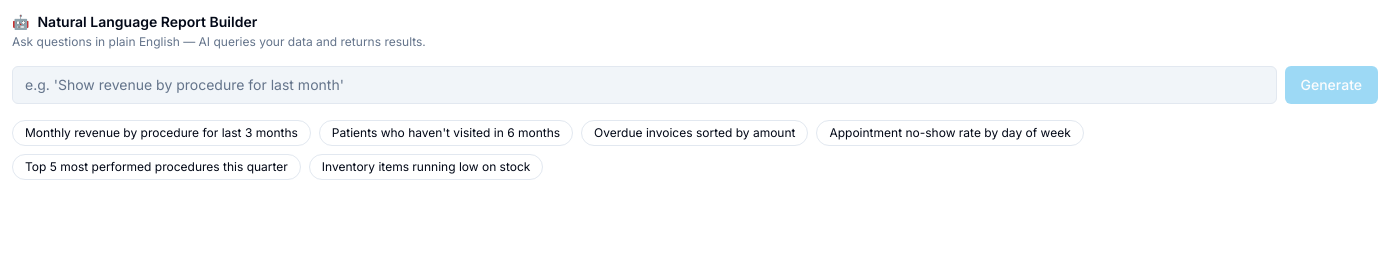
Test: ReportBuilder › shows error message when query fails
In the field with placeholder "e.g. 'Show revenue by procedure for last month'": (644, 85) x1=12 y1=66 x2=1276 y2=104, type "Invalid query"
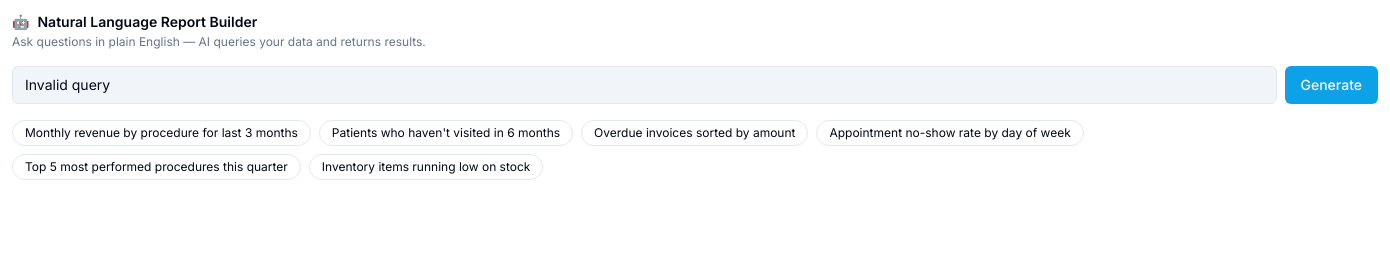
Click the button "Generate": (1331, 85) x1=1284 y1=66 x2=1378 y2=104
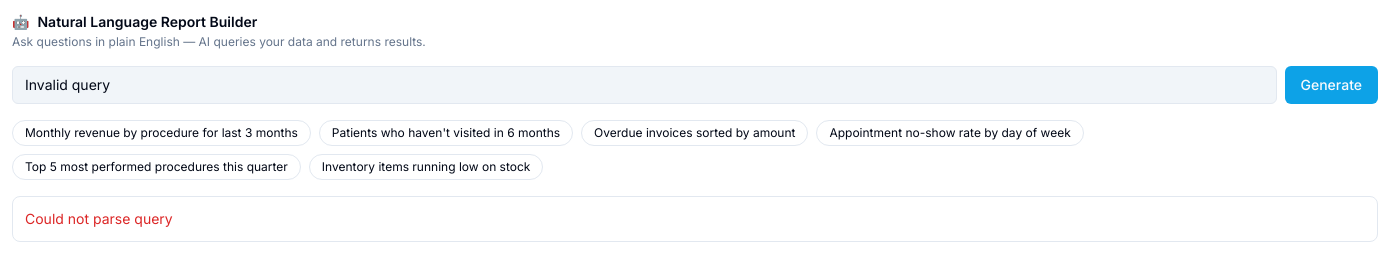
Expected: the text "Could not parse query" is shown, x1=25 y1=210 x2=173 y2=227
